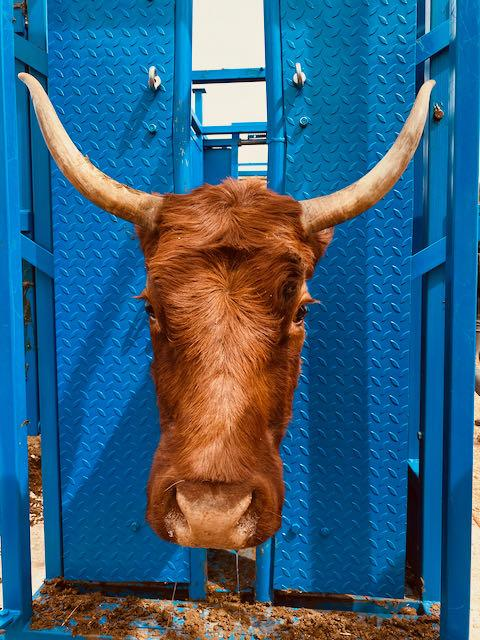muzzles: (145, 463, 281, 553)
